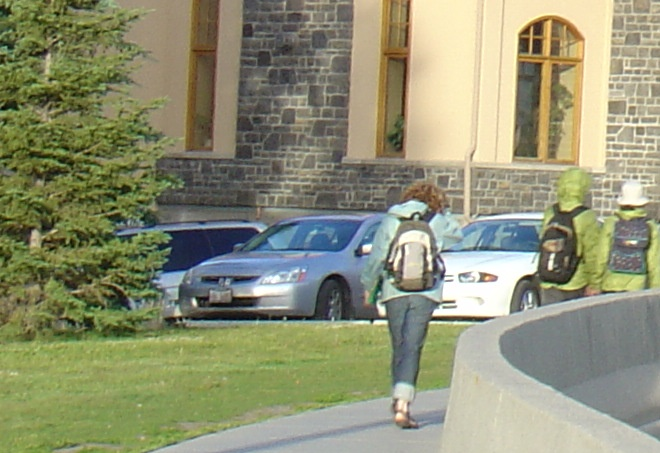person: (373, 181, 453, 430)
